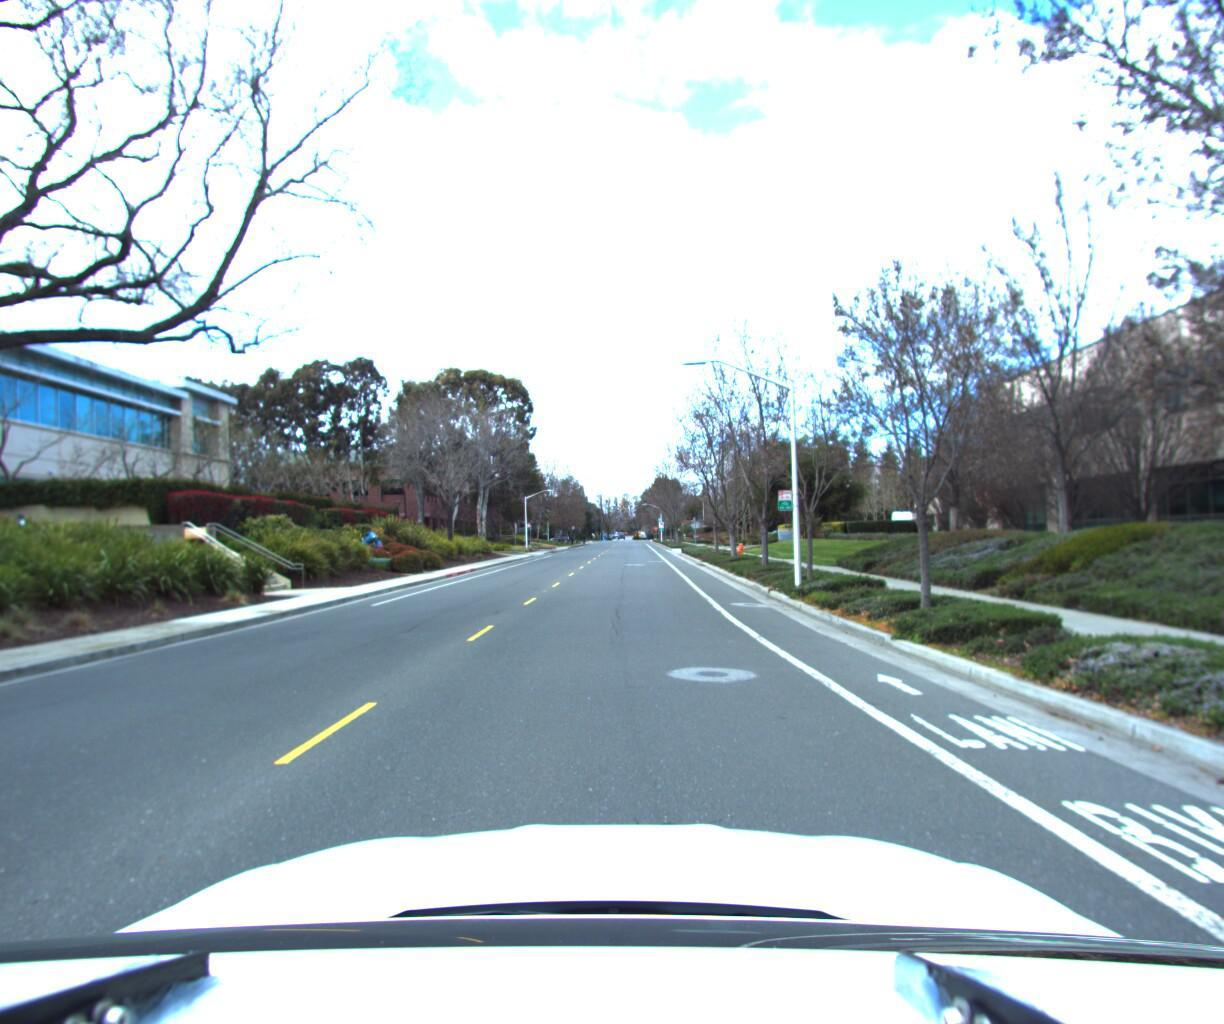car: (886, 506, 926, 540)
